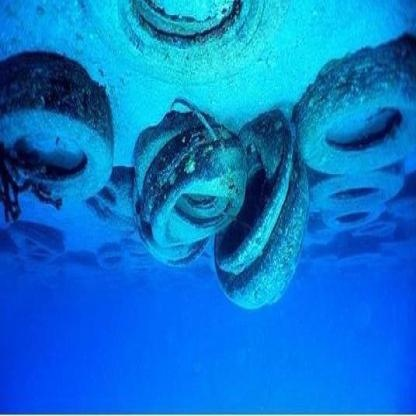tire: (285, 57, 416, 189), (4, 65, 109, 214), (224, 102, 302, 298), (140, 118, 235, 274), (125, 1, 273, 72), (308, 162, 407, 228), (335, 203, 384, 245)
